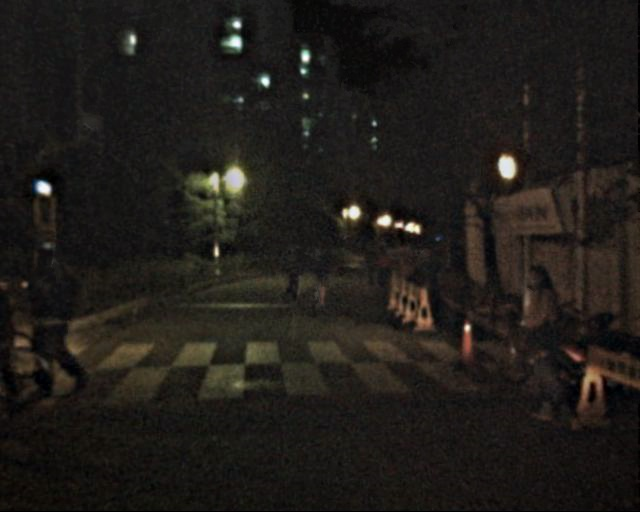person: (507, 262, 577, 432), (28, 249, 89, 397), (275, 240, 305, 314), (303, 244, 332, 315), (358, 245, 381, 301), (370, 246, 392, 299)
